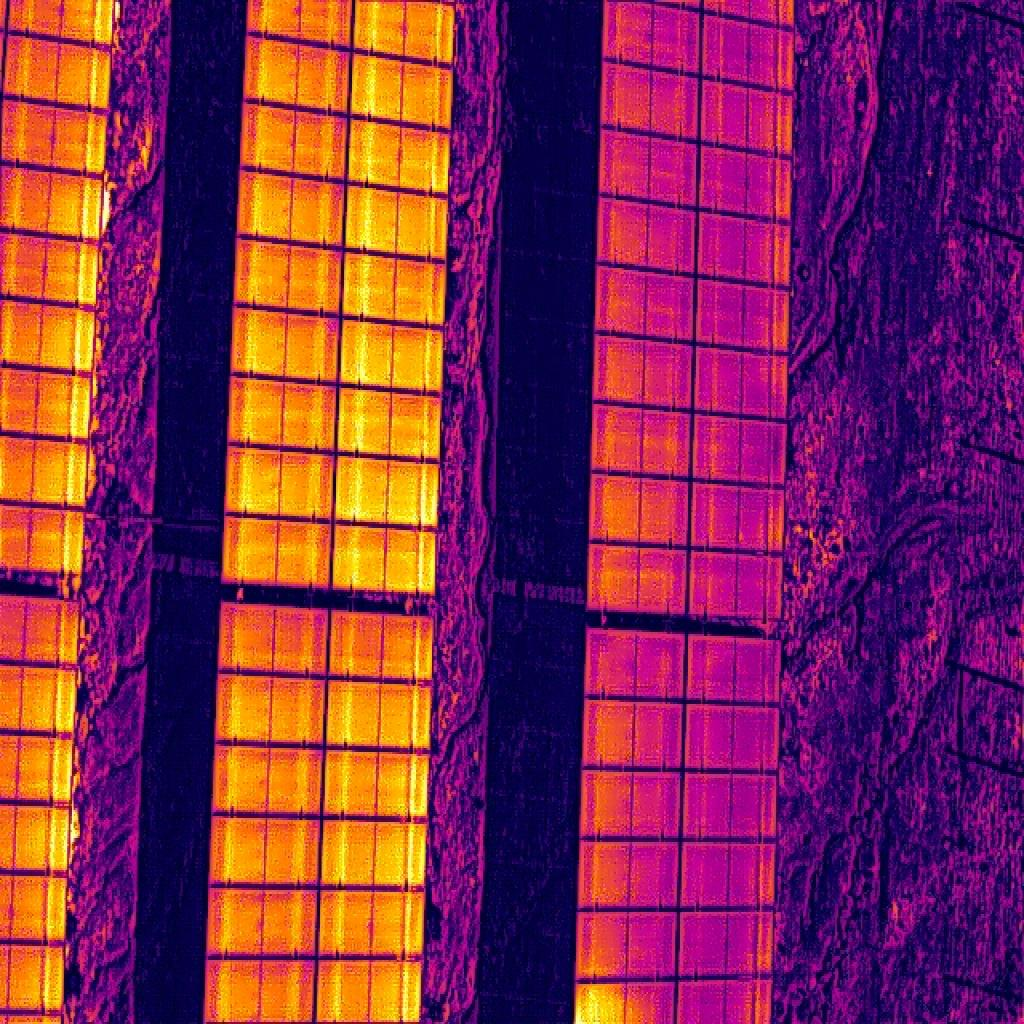panel: (345, 185, 447, 265), (595, 196, 697, 275), (328, 677, 431, 753), (588, 472, 692, 546), (584, 625, 687, 698), (695, 279, 791, 355), (695, 413, 790, 485), (580, 771, 682, 836)
